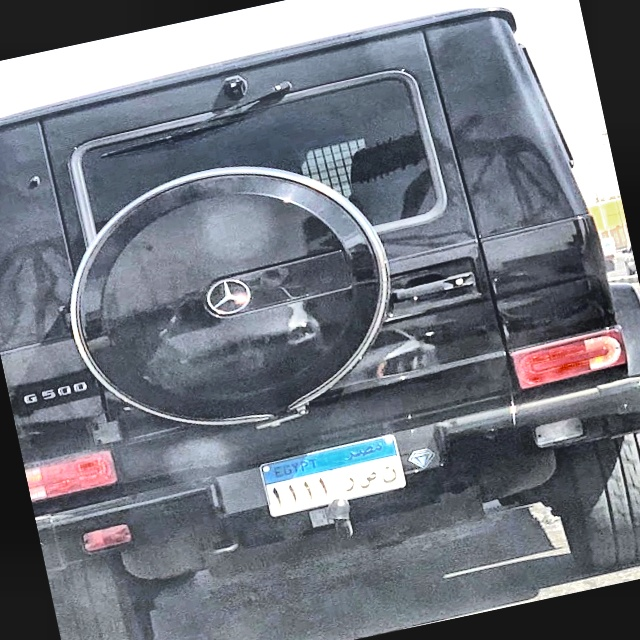License Plate: (257, 432, 410, 519)
